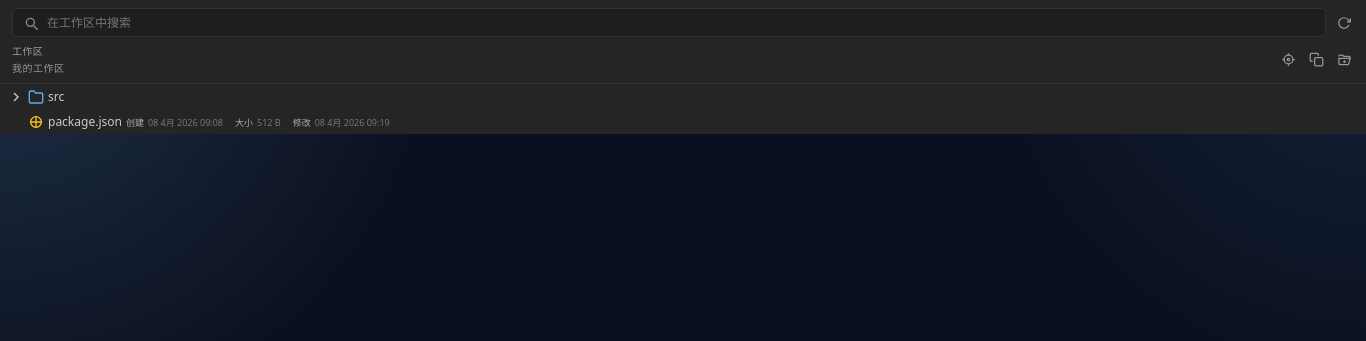
Test case: FileTree.vue › 渲染测试 › 输入关键字后应过滤文件树节点
Type "package" into the field with placeholder "在工作区中搜索" at (105, 22), box top-left (45, 13), bottom-right (165, 32)
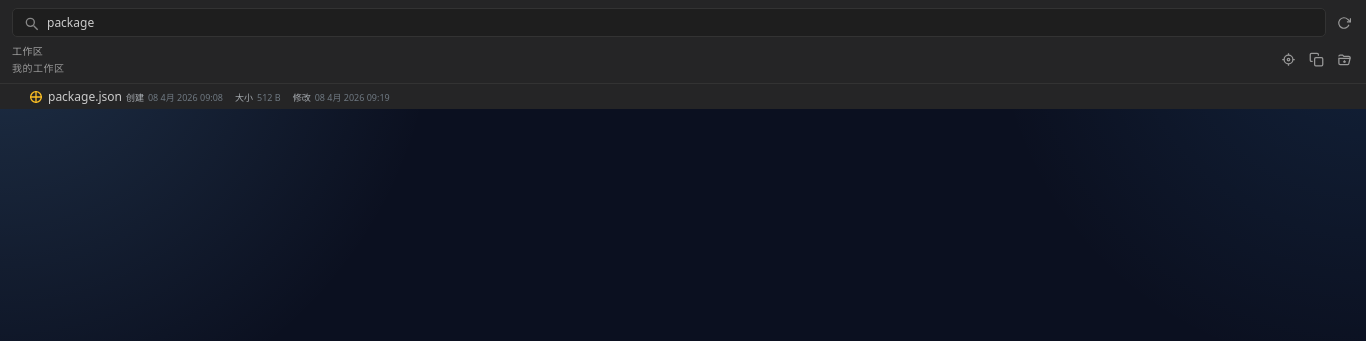
Expected: the text "package.json" is shown, top-left (48, 88), bottom-right (122, 105)
Result: the text "src" is gone
